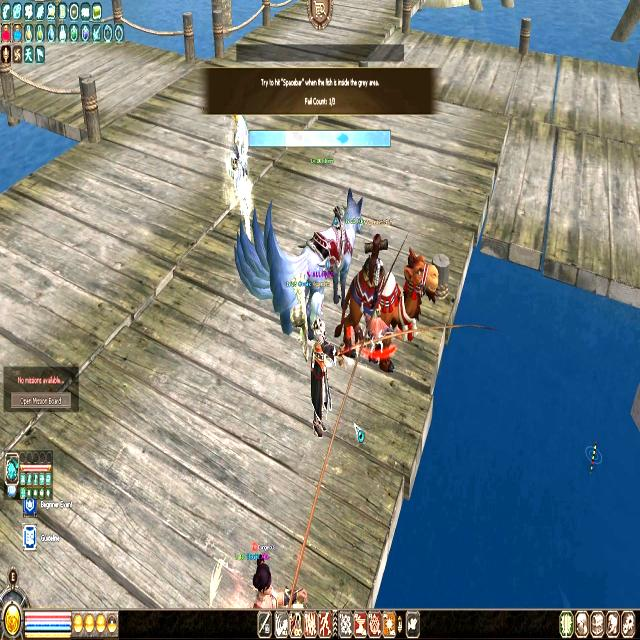fishes: (336, 132, 349, 146)
